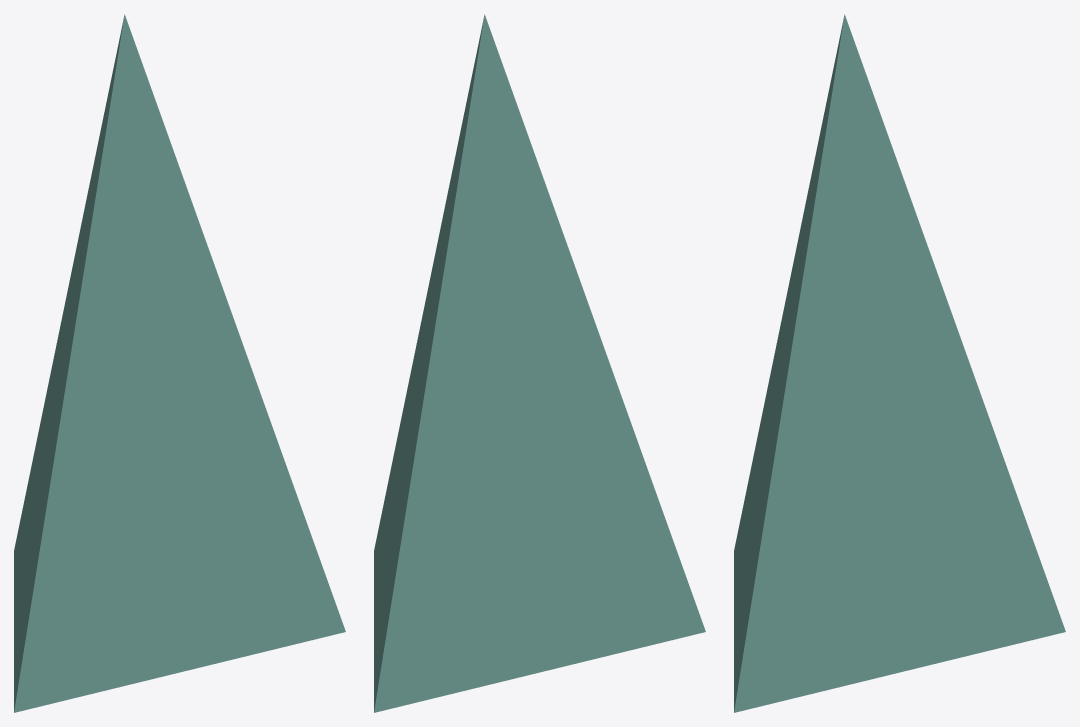
File: LowLOD_Pine.fbx
3 renders of one model, left to right at view 1: azimuth 30°, elevation 25°; view 2: azimuth 150°, elevation 25°; view 3: azimuth 270°, elevation 25°, orthographic.
Parts seen in each view (by area): view 1: Cone; view 2: Cone; view 3: Cone.
Part boxes in pixels (left/top/right/bottom): Cone: left=14, top=14, right=345, bottom=712; Cone: left=374, top=14, right=705, bottom=712; Cone: left=734, top=14, right=1065, bottom=712.
Bounding box in the file's own units: 6.11 × 10.86 × 5.29.
